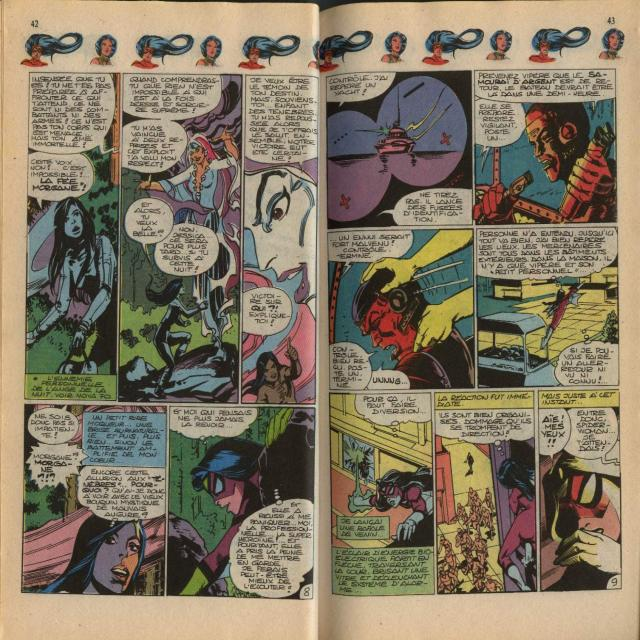comic_panel: (117, 72, 244, 405), (23, 70, 122, 404), (166, 404, 316, 600), (20, 402, 168, 598), (240, 72, 320, 407), (326, 226, 477, 391), (325, 69, 474, 231), (475, 226, 621, 391), (473, 68, 620, 227), (327, 390, 436, 599), (433, 388, 538, 596), (538, 387, 622, 594)
